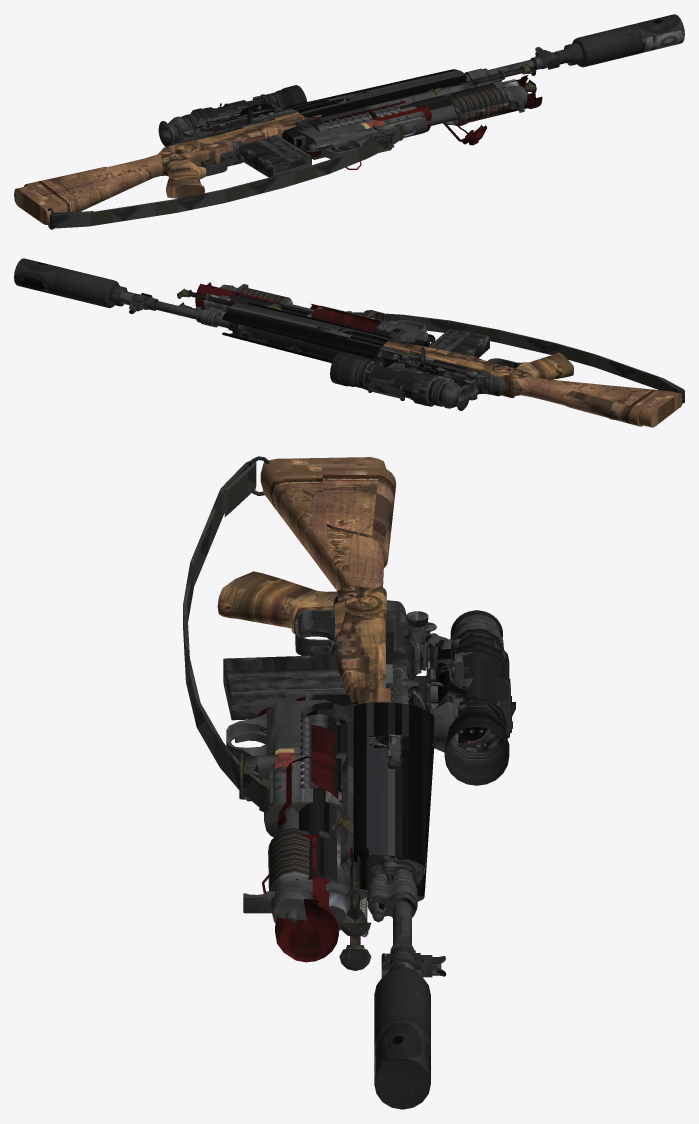
File: t5_weapon_m14_viewmodel.glb
3 renders of one model, top to bottom at view 1: azimuth 30°, elevation 25°; view 2: azimuth 150°, elevation 25°; view 3: azimuth 270°, elevation 25°, orthographic. The views are drawn at different scales.
Visible parts, largest first — view 1: t5_weapon_m14_viewmodel; view 2: t5_weapon_m14_viewmodel; view 3: t5_weapon_m14_viewmodel.
Boxes of the visible parts, bbox=[...] form: t5_weapon_m14_viewmodel: bbox=[14, 14, 684, 229]; t5_weapon_m14_viewmodel: bbox=[14, 258, 684, 427]; t5_weapon_m14_viewmodel: bbox=[183, 456, 515, 1109].
Bounding box in the file's own units: 1.19 × 0.1034 × 0.2743.
21 materials, 20 textured.
